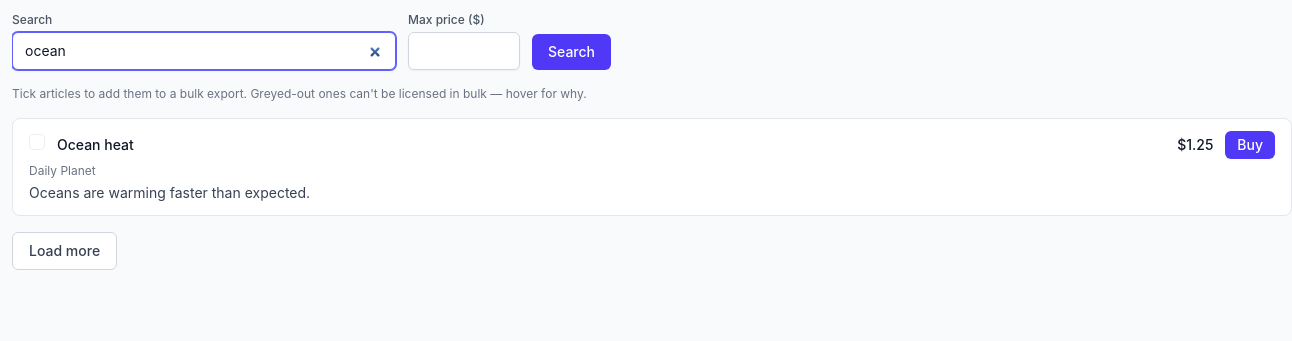
Scenario: ContentSearch › another API error on Load more reads as it does on the first page, keeping the results
Click the button "Load more" at [65, 251], box [12,232,117,270]
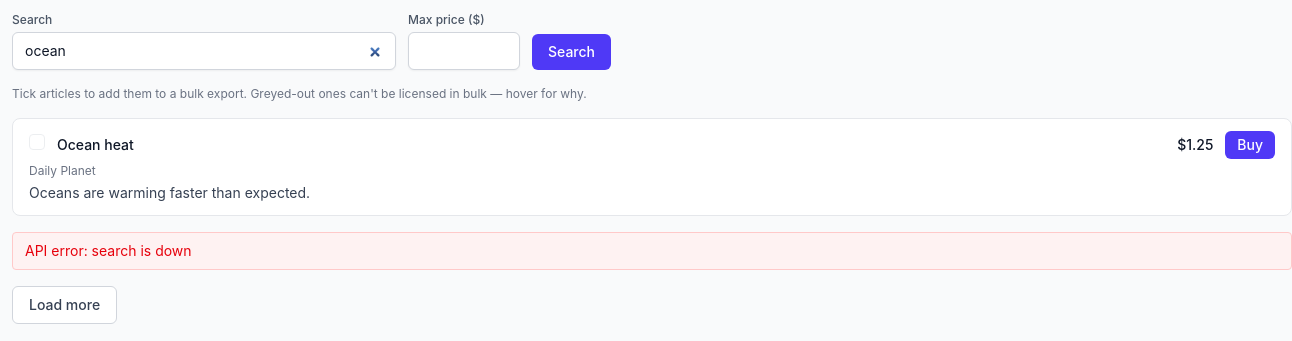
Expected: the text "Ocean heat" is shown, [57,135,134,155]
Expected: the message reads "API error: search is down", [25,242,192,259]
